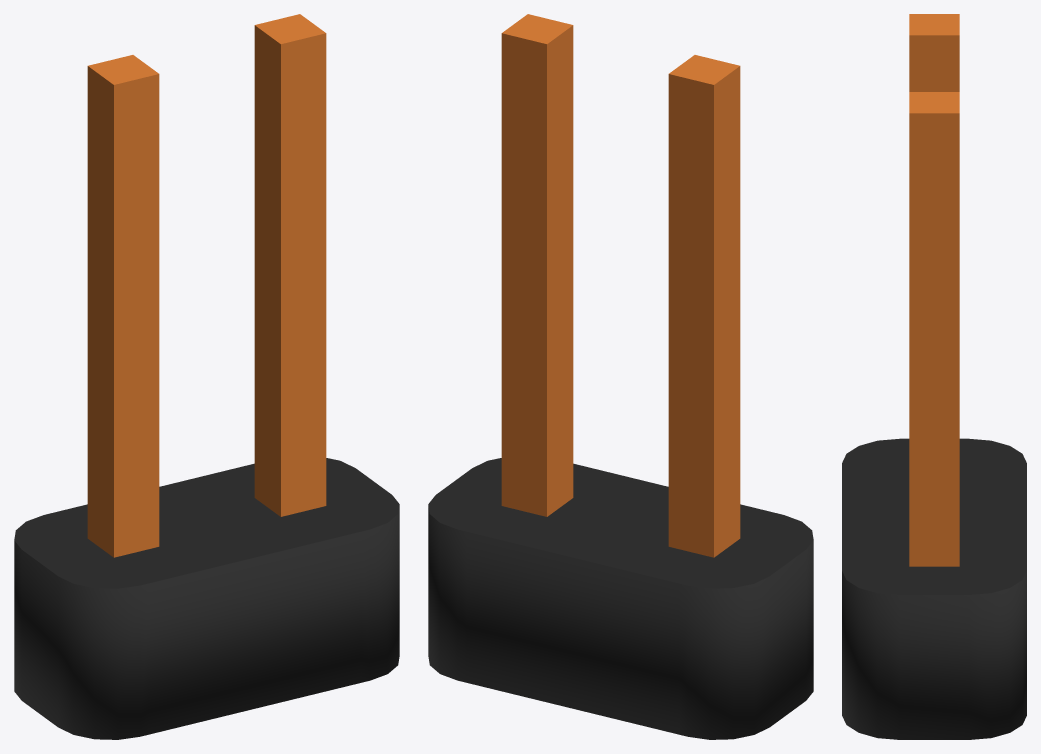
The model's file is InputMini_2x.fbx.
The picture shows the model from 3 angles, left to right: view 1: azimuth 30°, elevation 25°; view 2: azimuth 150°, elevation 25°; view 3: azimuth 270°, elevation 25°; orthographic projection. The views are drawn at different scales.
Parts seen in each view (by area): view 1: Input_Mini_2x; view 2: Input_Mini_2x; view 3: Input_Mini_2x.
Boxes of the visible parts, bbox=[...] form: Input_Mini_2x: bbox=[14, 14, 399, 739]; Input_Mini_2x: bbox=[428, 14, 813, 739]; Input_Mini_2x: bbox=[842, 14, 1026, 739].
Size of the model in its own units: 239 by 427 by 120.
